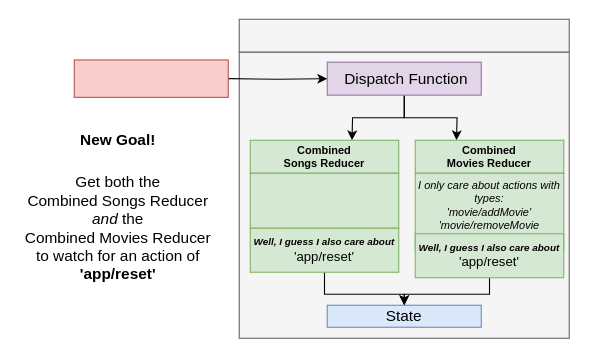
Some shapes in this 589 by 358 pixel diagram are drawn without their labels. The shapes that lost their labels are listed below. From the top down, each one's centre as x and y in pixels, then its label:
At (403,35): "Redux Store".
At (150,78): "Action { type: 'app/reset' }".
At (324,200): "I only care about actions with types: 'song/addSong' 'song/removeSong'".
